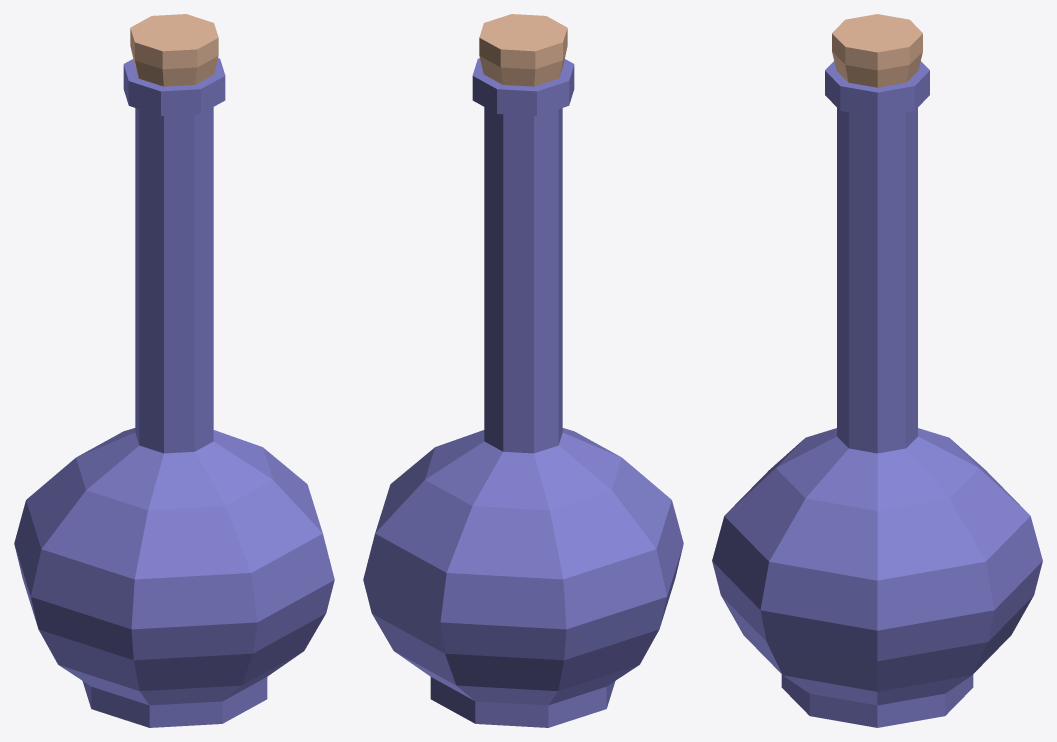
Rendered from Potion C.fbx.
The picture shows the model from 3 angles, left to right: view 1: azimuth 30°, elevation 25°; view 2: azimuth 150°, elevation 25°; view 3: azimuth 270°, elevation 25°; orthographic projection.
Visible parts, largest first — view 1: Potion C; view 2: Potion C; view 3: Potion C.
Boxes of the visible parts, <box> form: Potion C: <box>14,14,334,727</box>; Potion C: <box>363,14,683,727</box>; Potion C: <box>712,14,1042,727</box>.
Bounding box in the file's own units: 20.24 × 44.15 × 20.24.
